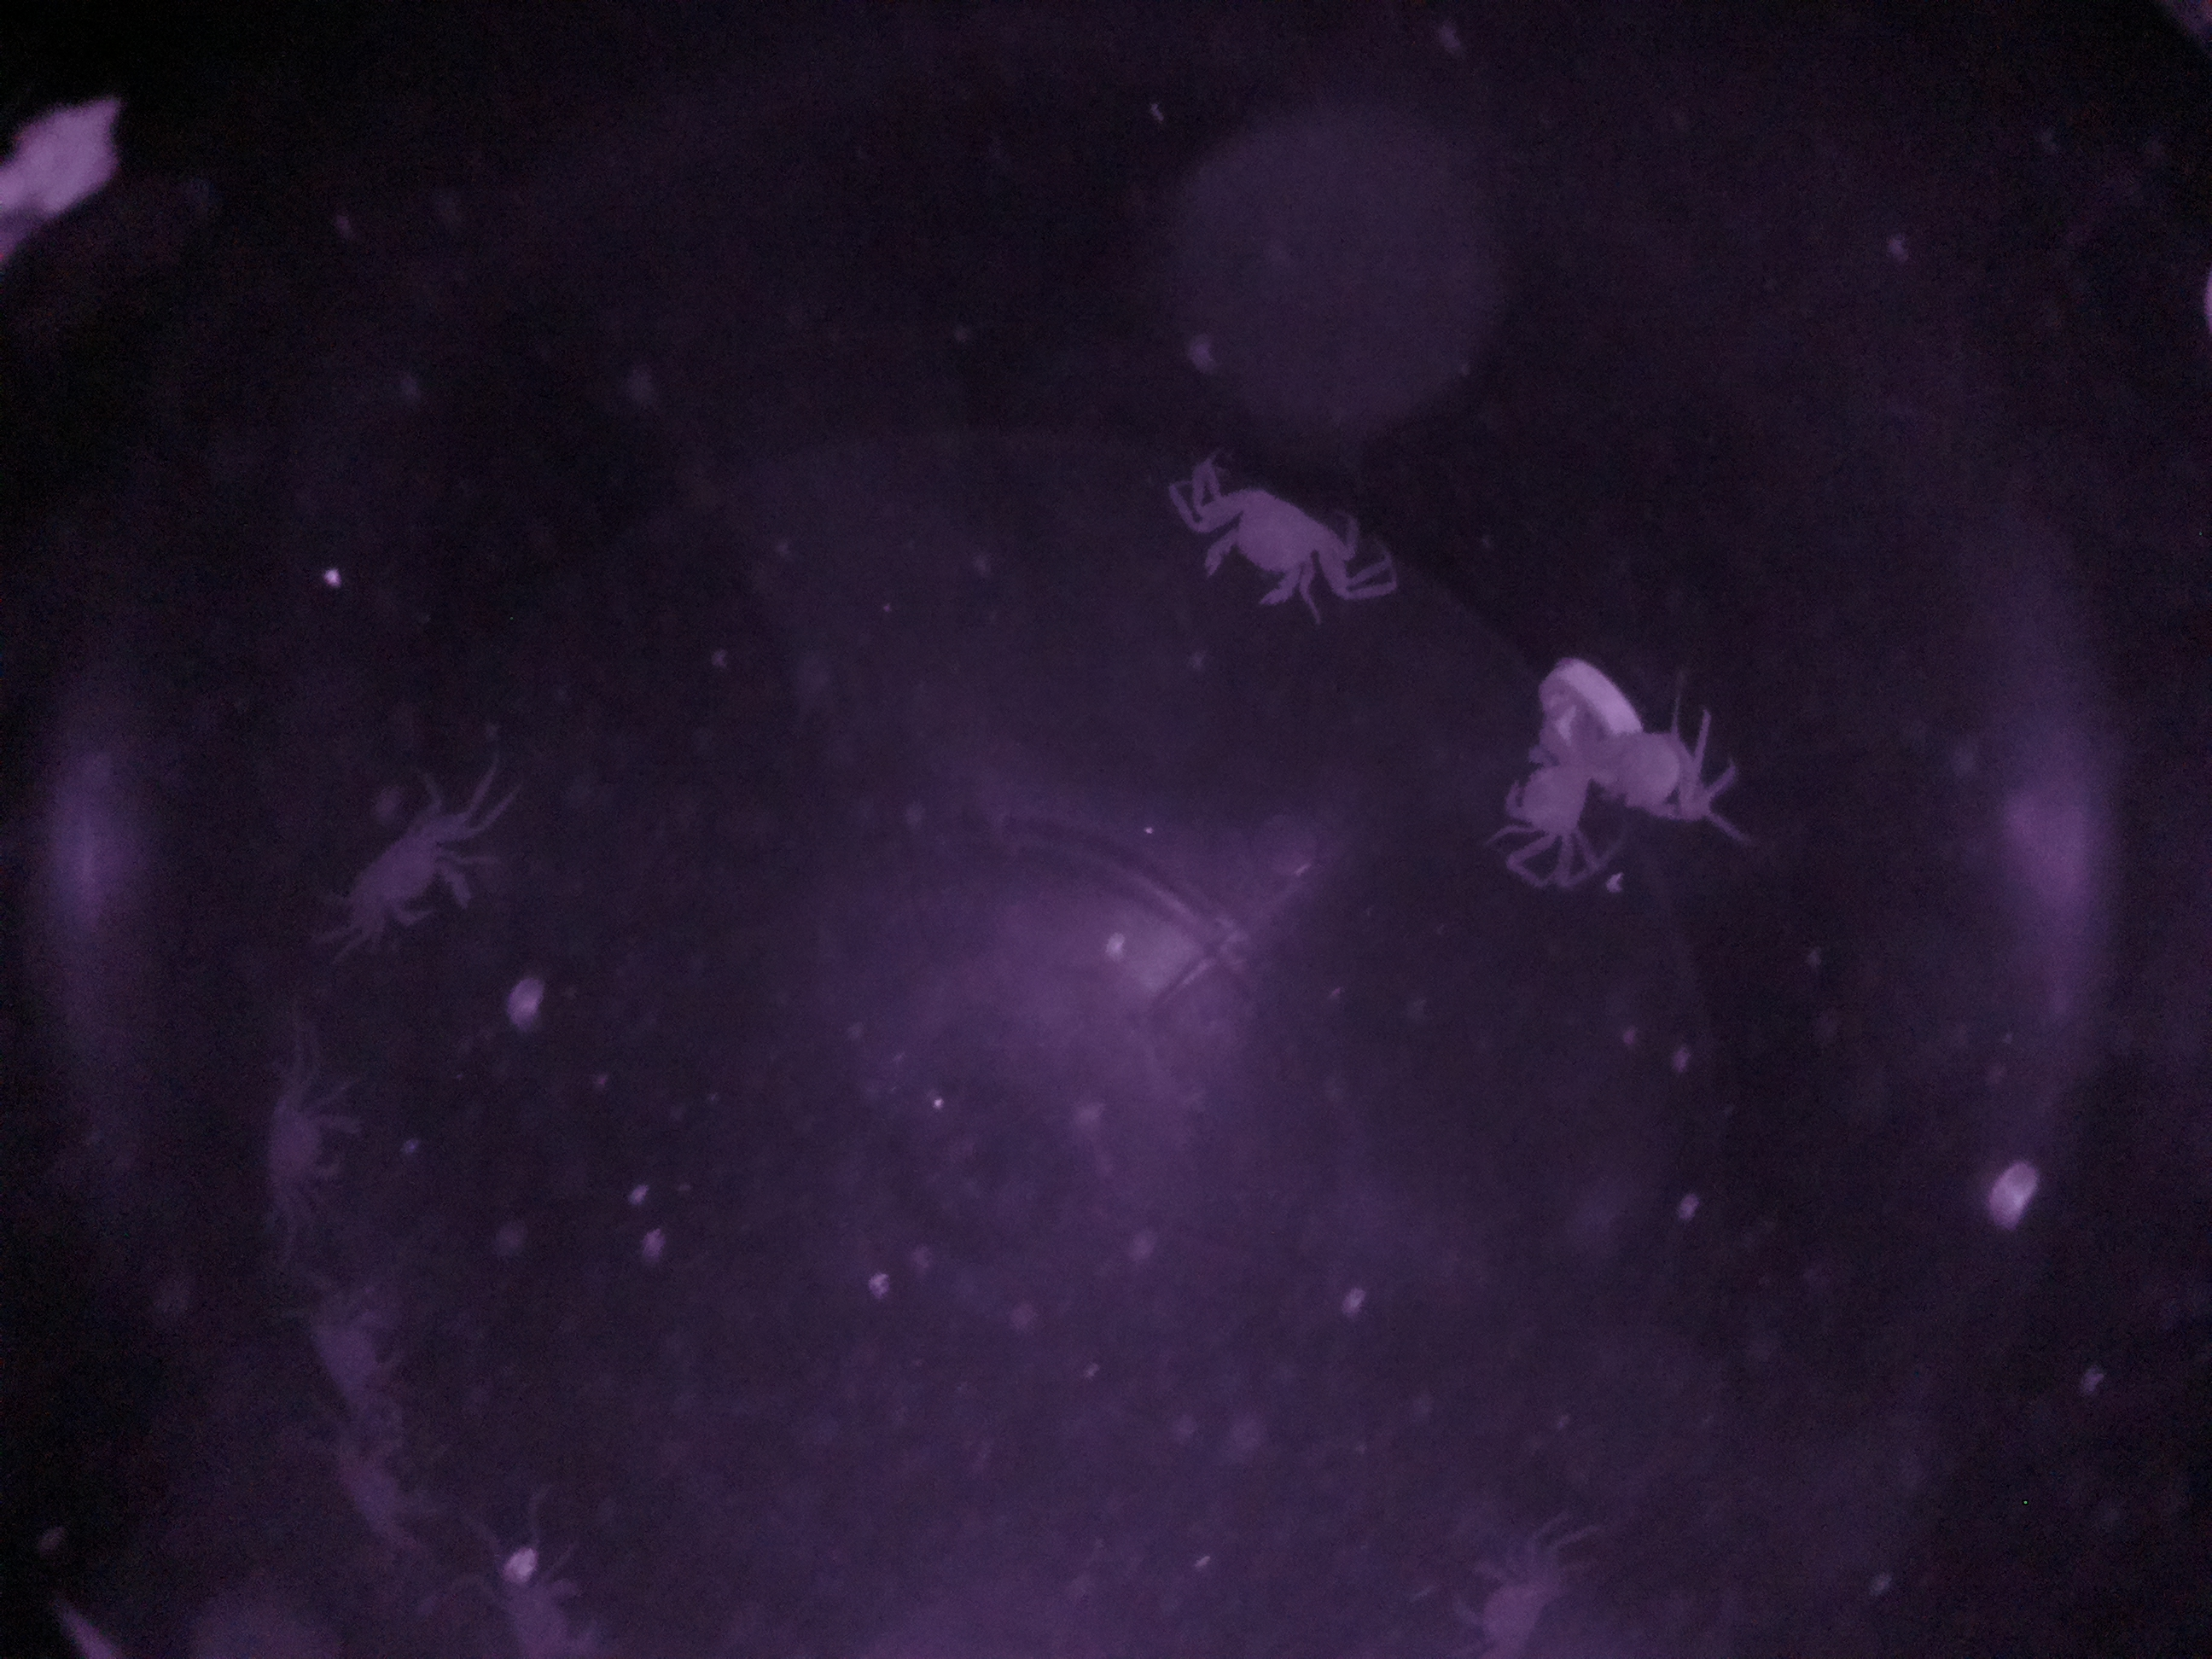Crab: (1162, 457, 1371, 655), (329, 767, 500, 986), (247, 1065, 381, 1230)
